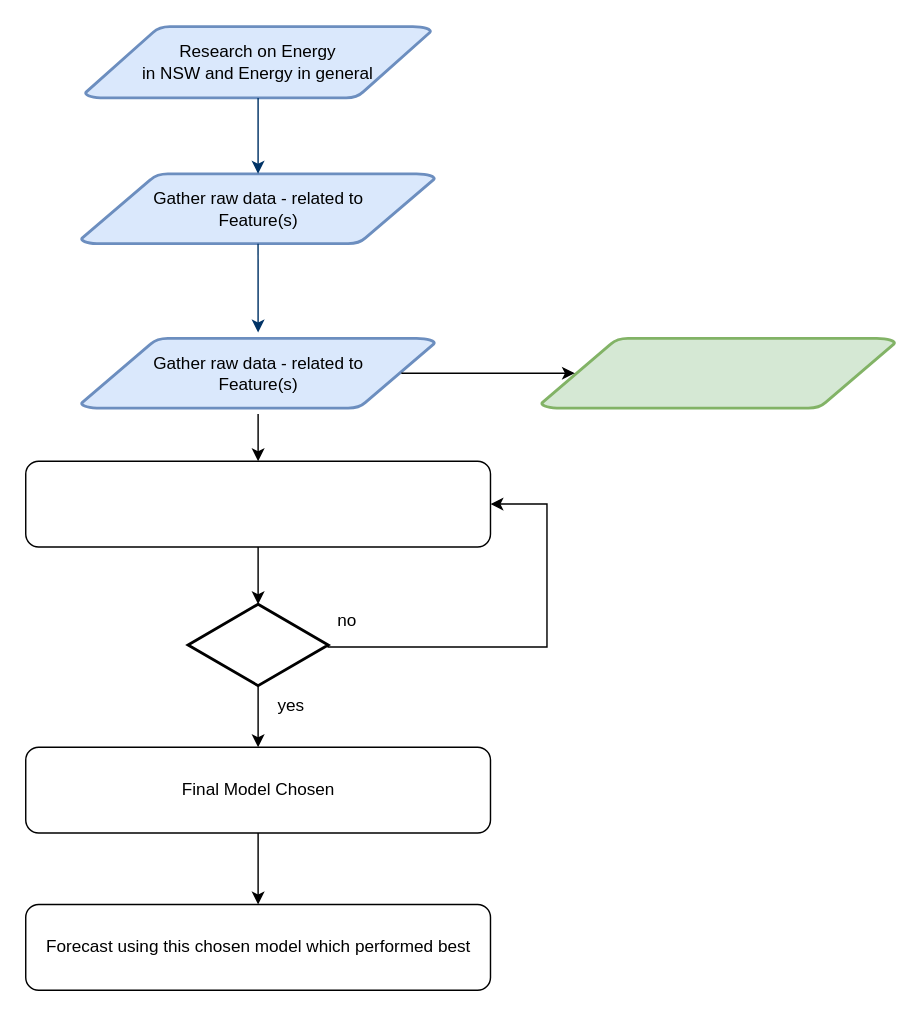
Image size: 921x1015. Some labels were removed from this diagram. Here are the shapes that lost their labels. From the top down, the centre of each, then its label:
At point (717, 372): "Exploratory Data Analysis".
At point (257, 503): "Model - Testing".
At point (257, 644): "Is error low".
